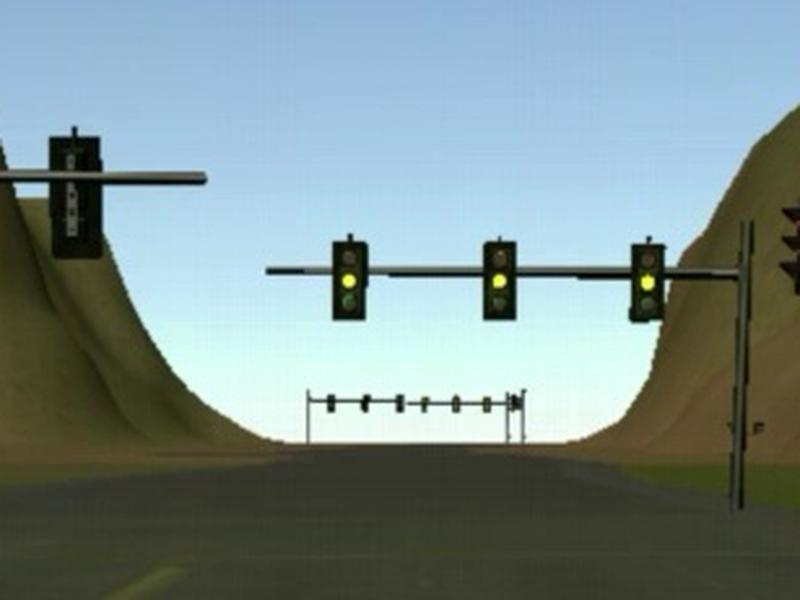Yellow: (627, 242, 666, 322), (331, 240, 368, 320), (481, 240, 518, 320)
